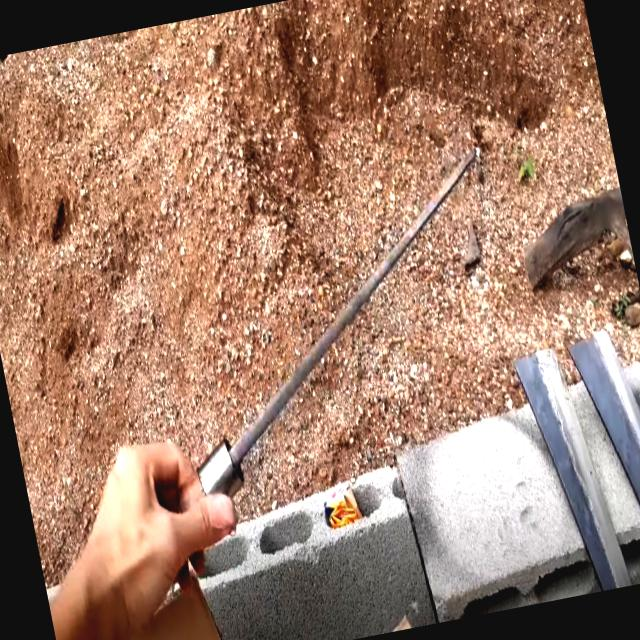eto: (54, 149, 477, 640)
